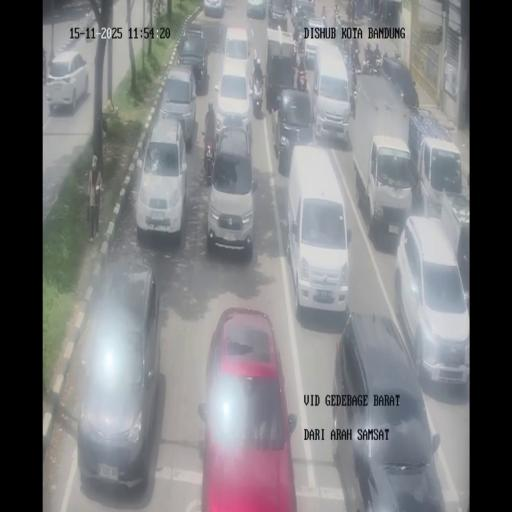car: (198, 307, 299, 512), (78, 263, 162, 493), (394, 218, 470, 387), (205, 124, 255, 256), (136, 117, 188, 242), (413, 131, 463, 220), (272, 88, 316, 174), (213, 66, 254, 144), (46, 50, 89, 113), (380, 55, 418, 109), (176, 27, 208, 90), (221, 26, 250, 72), (304, 17, 327, 66), (291, 0, 316, 27), (268, 0, 290, 27), (246, 0, 267, 19)
motorcycle: (202, 135, 216, 185), (337, 31, 354, 71), (251, 69, 264, 117), (363, 49, 381, 75), (212, 122, 223, 154), (296, 70, 309, 94), (292, 19, 302, 45), (349, 84, 356, 120), (350, 36, 360, 60), (333, 14, 342, 40), (350, 64, 358, 89), (348, 0, 356, 23), (42, 46, 47, 82), (291, 43, 298, 68), (393, 44, 401, 61), (321, 12, 327, 28)
truck: (348, 74, 414, 242), (286, 146, 350, 318), (312, 42, 352, 145), (265, 26, 297, 110)
